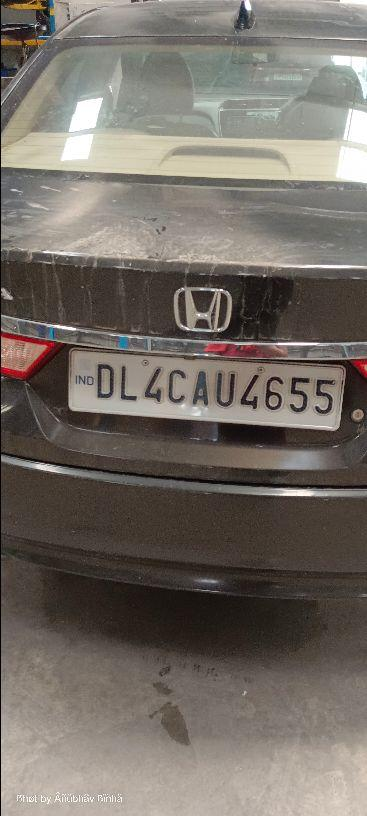license_plate: (66, 345, 346, 431)
